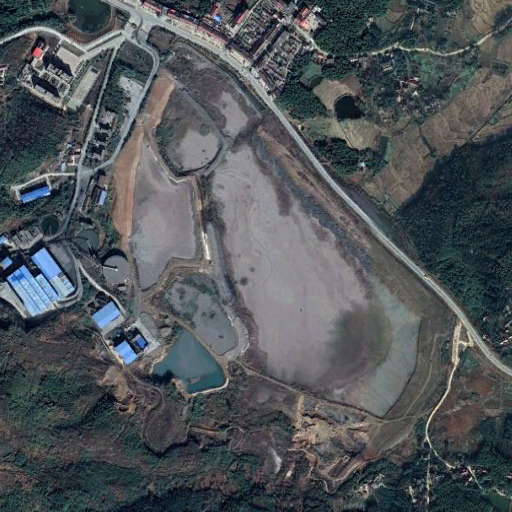tp: (116, 29, 443, 425)
